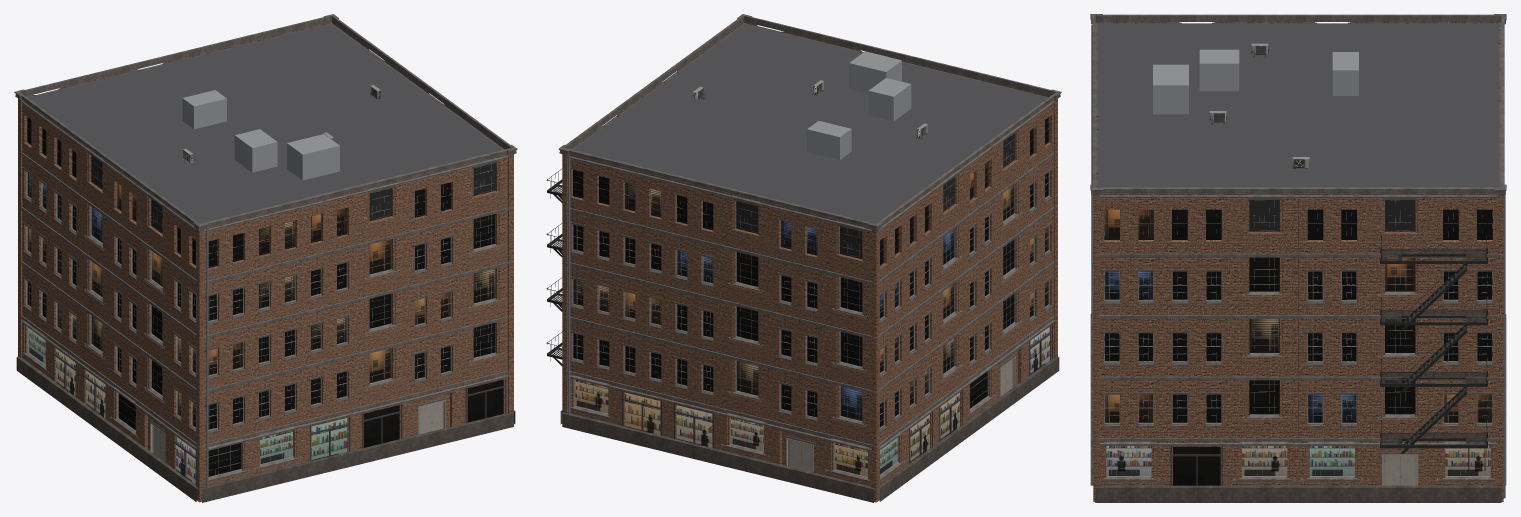
Rendered from loft_a.gltf.
3 renders of one model, left to right at view 1: azimuth 30°, elevation 25°; view 2: azimuth 150°, elevation 25°; view 3: azimuth 270°, elevation 25°, orthographic. The views are drawn at different scales.
Parts seen in each view (by area): view 1: loft_a; view 2: loft_a; view 3: loft_a.
Boxes of the visible parts, x1,y1,x2,y2 form: loft_a: (14,14,517,502); loft_a: (546,14,1061,502); loft_a: (1090,14,1506,502).
Bounding box in the file's own units: 19.63 × 16.37 × 18.42.
16 materials, 11 textured.
